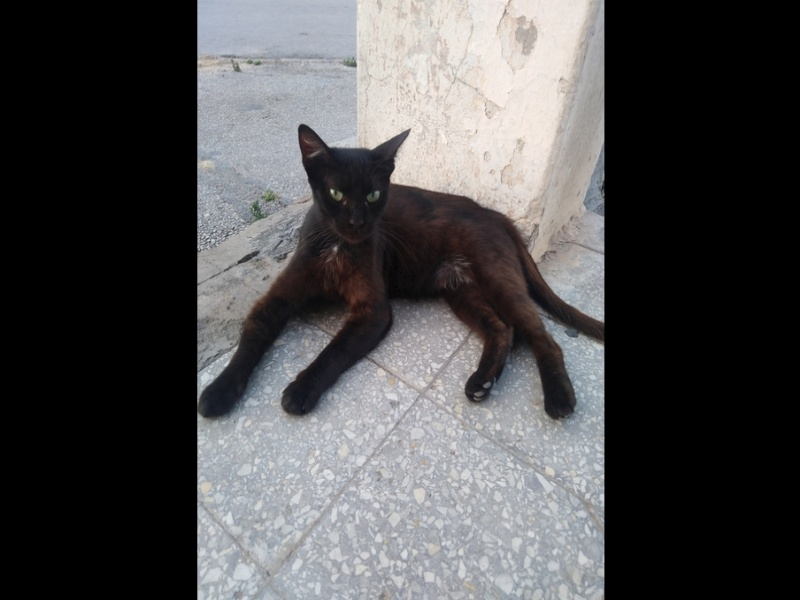cat: (198, 123, 600, 420)
